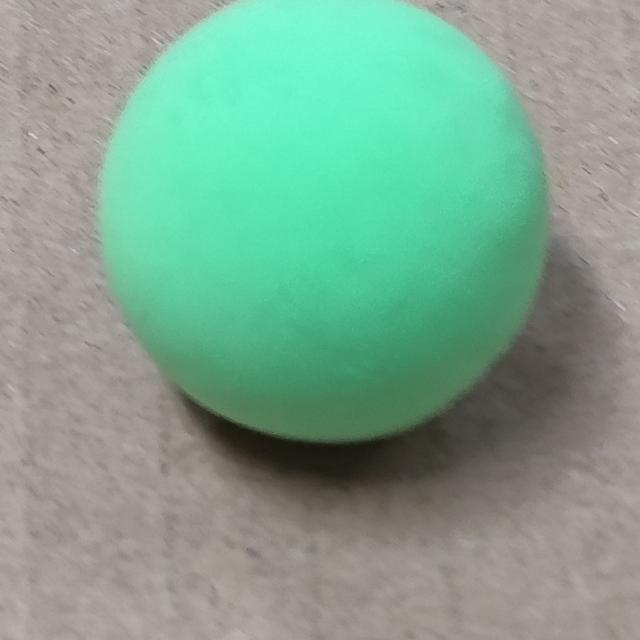bad: (97, 0, 551, 440)
